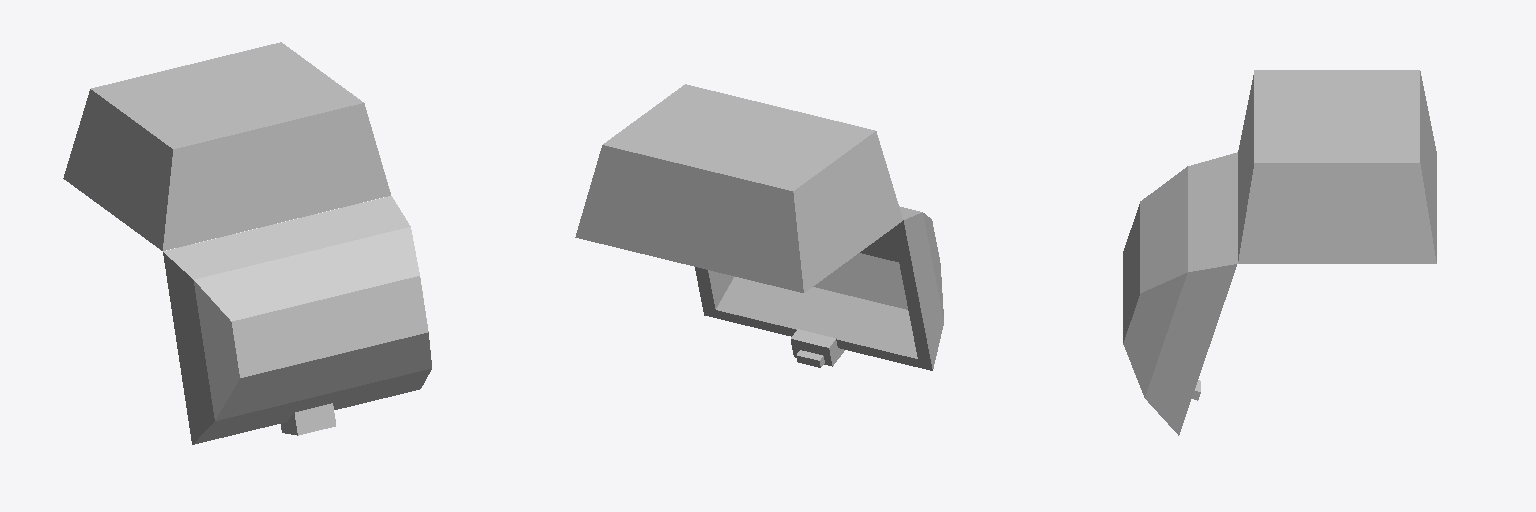
Rendered from cofre-riggin_000043.obj.
The picture shows the model from 3 angles: view 1: azimuth 30°, elevation 25°; view 2: azimuth 150°, elevation 25°; view 3: azimuth 270°, elevation 25°; orthographic projection.
Visible parts, largest first — view 1: Cube; view 2: Cube; view 3: Cube.
Part boxes in pixels (x1,y1,x2,y2): Cube: (63,42,431,444); Cube: (575,84,943,370); Cube: (1123,70,1436,435).
Size of the model in its own units: 33.92 by 39.44 by 40.27.